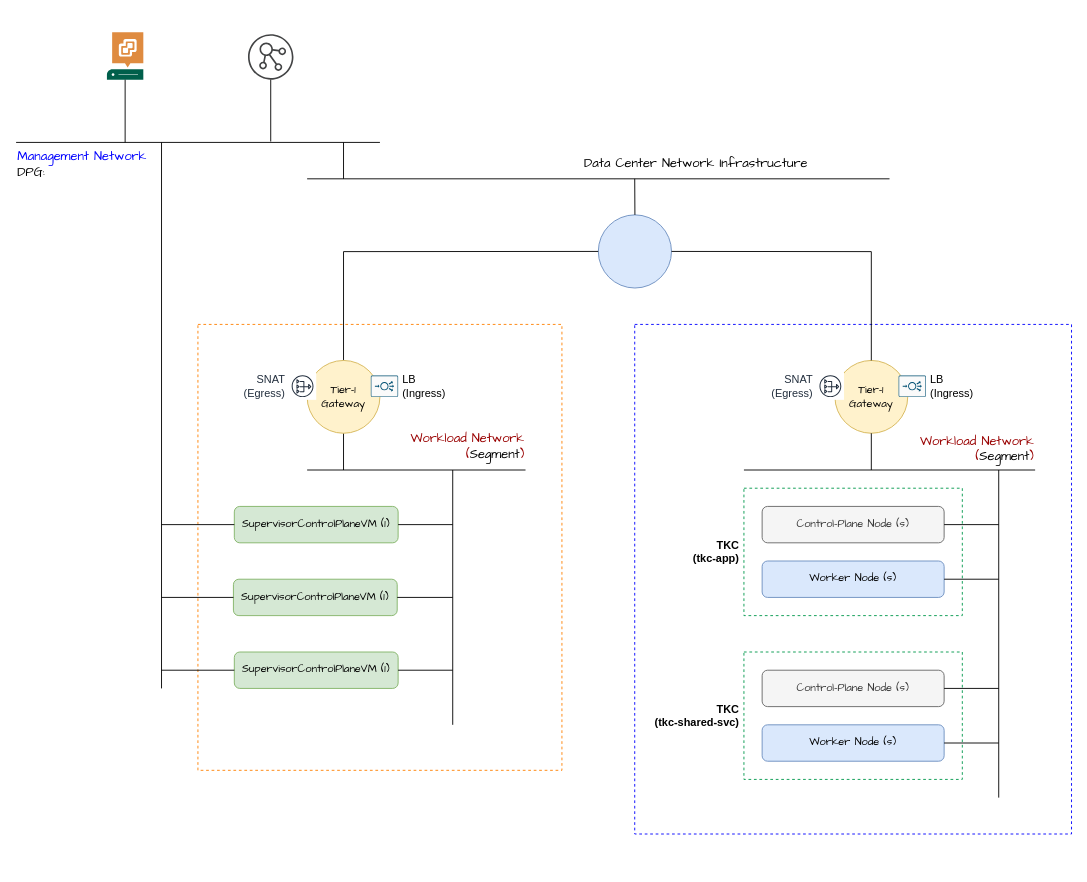
Image size: 1087x882. Some labels were removed from this diagram. The box of each missing label's shape, as (x1, y1, x2, y2) in pixels:
NSX Manager: (248, 34, 293, 79)
Supervisor System Namespaces: (197, 324, 562, 770)
Tier-0 Gateway: (597, 214, 671, 288)
vCenter: (106, 32, 143, 79)
vSphere Namespace (ns-indue-dev): (634, 324, 1072, 834)
